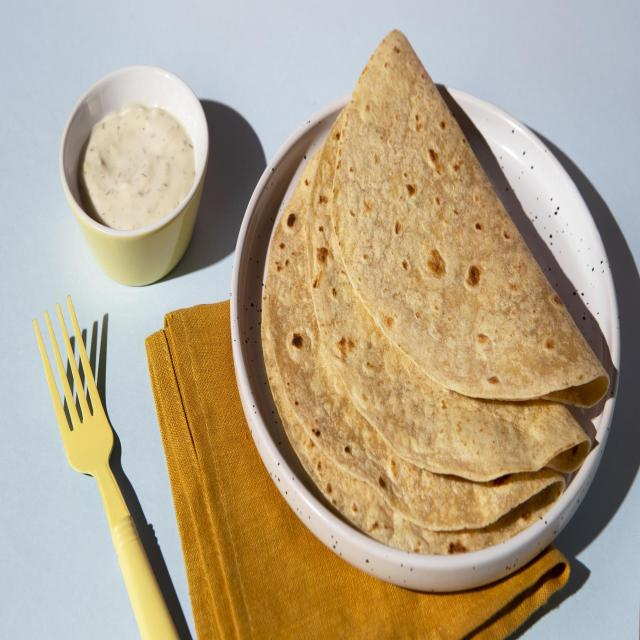roti: (261, 143, 568, 560), (330, 28, 611, 407), (308, 107, 591, 475)
